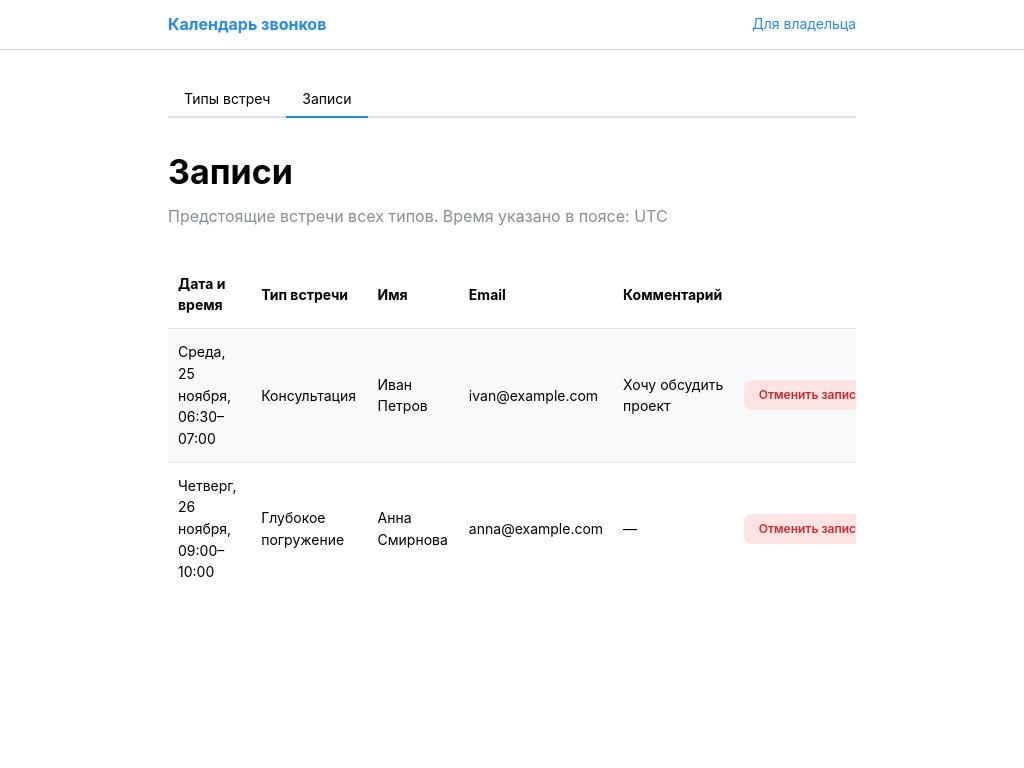
Test: отмена записи: после подтверждения строка пропадает и показано «Запись отменена»
The width and height of the screenshot is (1024, 768).
Click the button "Отменить запись" in the row of "Консультация" at (811, 395), box x1=744 y1=380 x2=878 y2=410
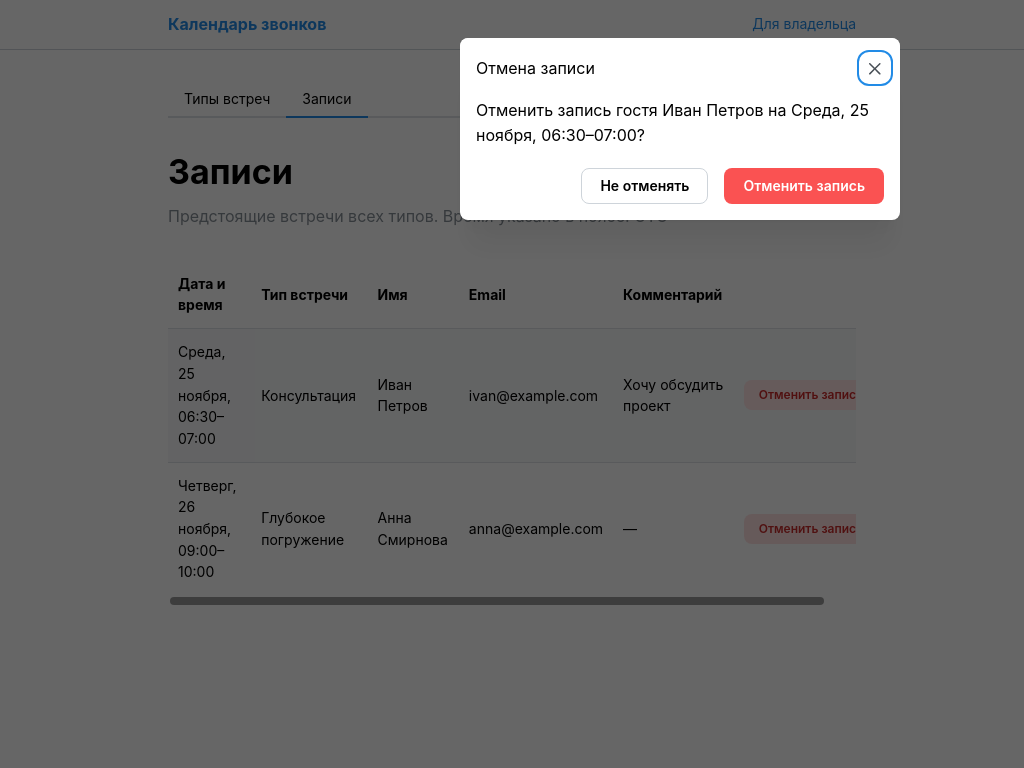
Click the button "Отменить запись" at (804, 186), box x1=724 y1=168 x2=884 y2=204
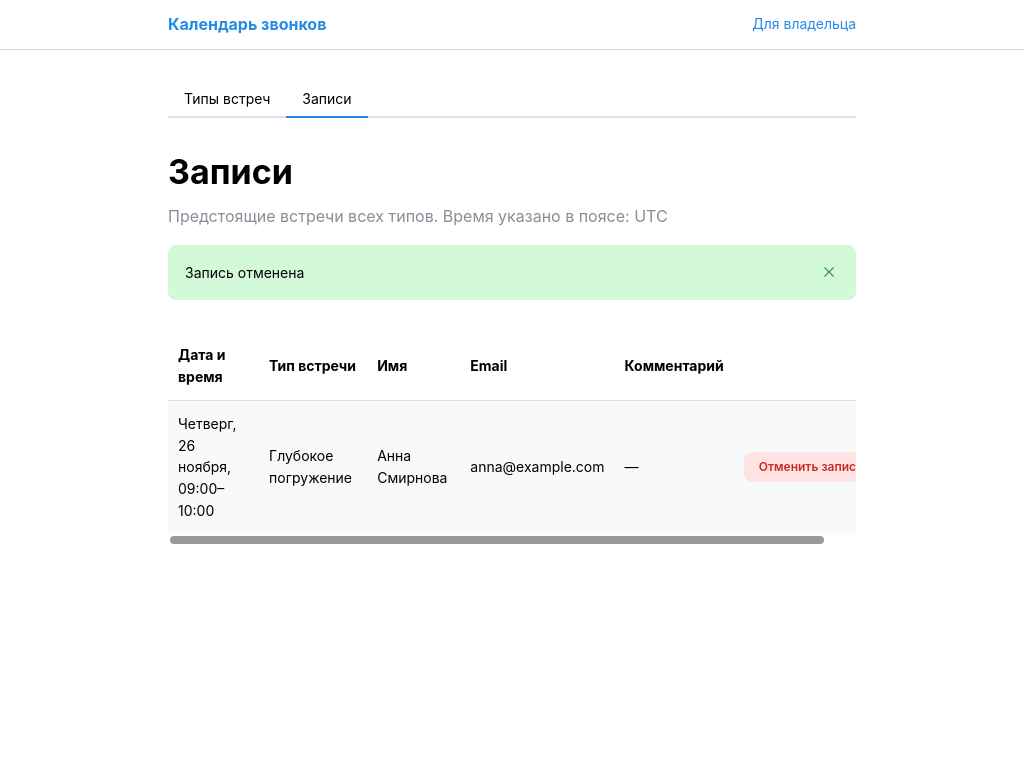
Check: the cell "Анна Смирнова" is shown, box x1=367 y1=400 x2=460 y2=533
Check: the text "Запись отменена" is shown, box x1=185 y1=264 x2=304 y2=281
Check: the cell "Иван Петров" is gone
